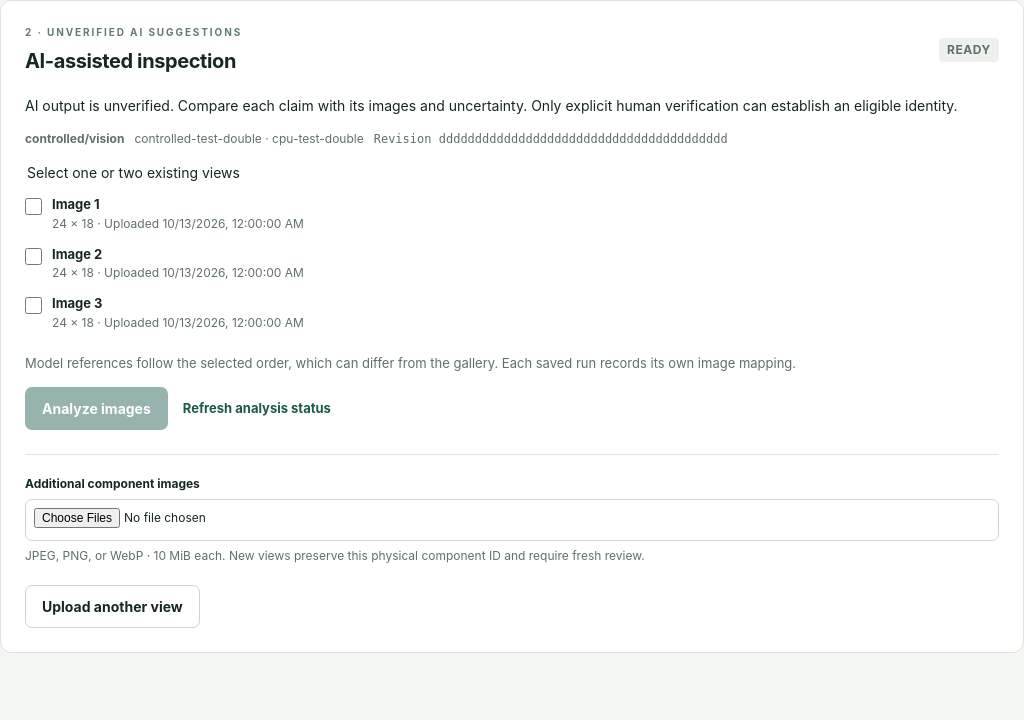
Test: inspection requests and explicit human actions › reuses the exact request ID and evidence version after a lost response
The image size is (1024, 720).
Step 1. Click the checkbox labelled "Image 1 24 × 18 · Uploaded 10/13/2026, 12:00:00 AM" → (34, 206), box left=25, top=198, right=42, bottom=215
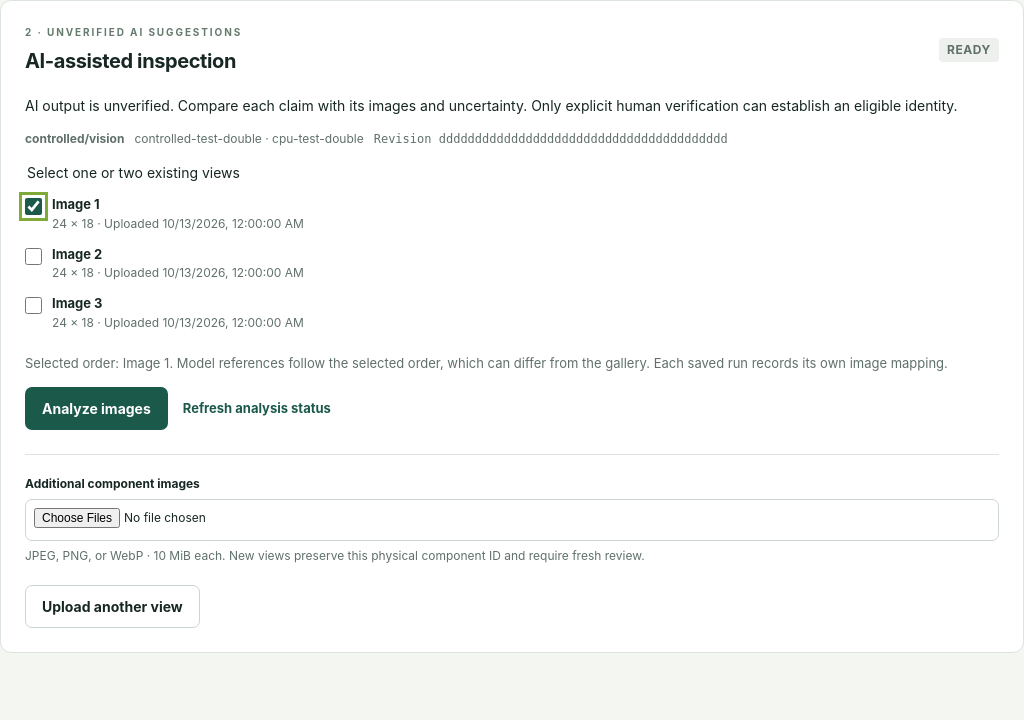
Step 2. Click the button "Analyze images" → (96, 408), box left=25, top=387, right=168, bottom=430
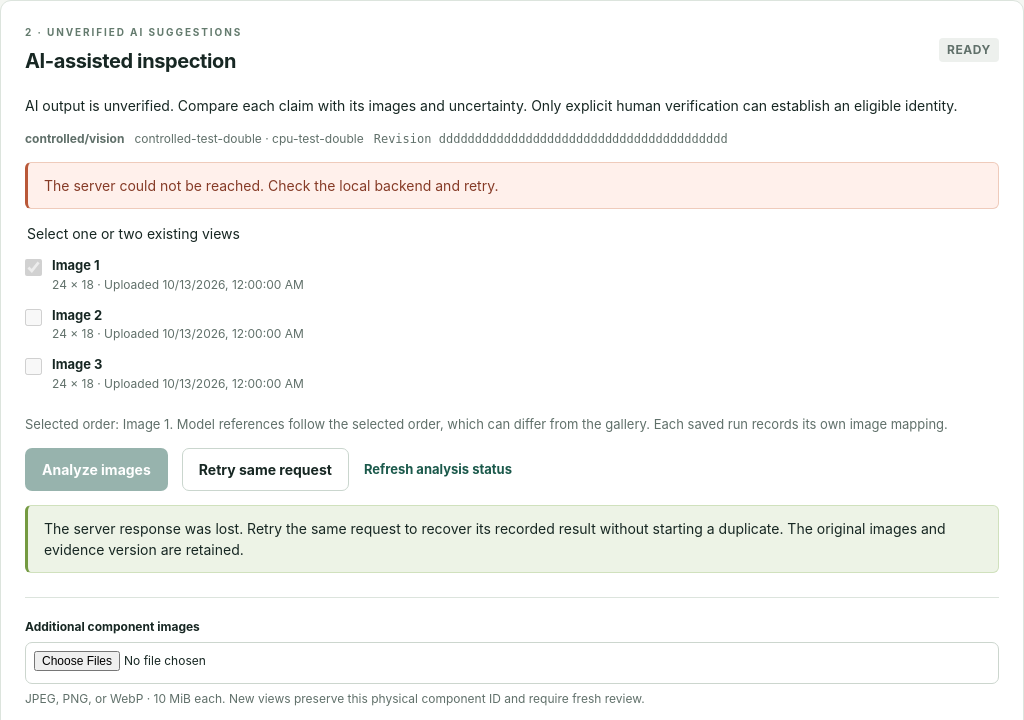
Now the button "Analyze images" is disabled, box left=25, top=448, right=168, bottom=491
Step 3. Click the button "Retry same request" → (265, 470), box left=182, top=448, right=349, bottom=491
(page scrolled)
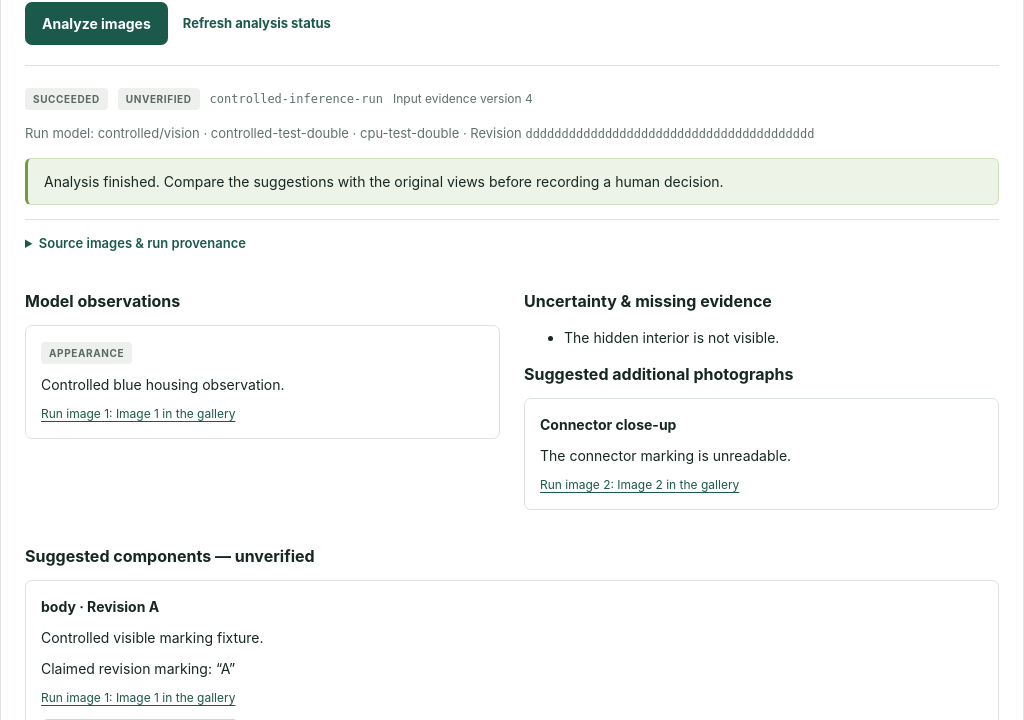
Now the text "Controlled blue housing observation." is shown, box left=41, top=376, right=285, bottom=393
Now the button "Retry same request" is gone
